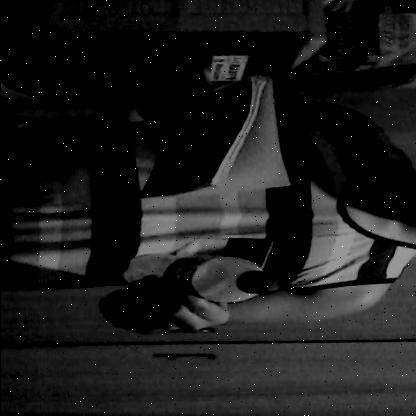Plastic Bottle: (111, 250, 295, 309)
